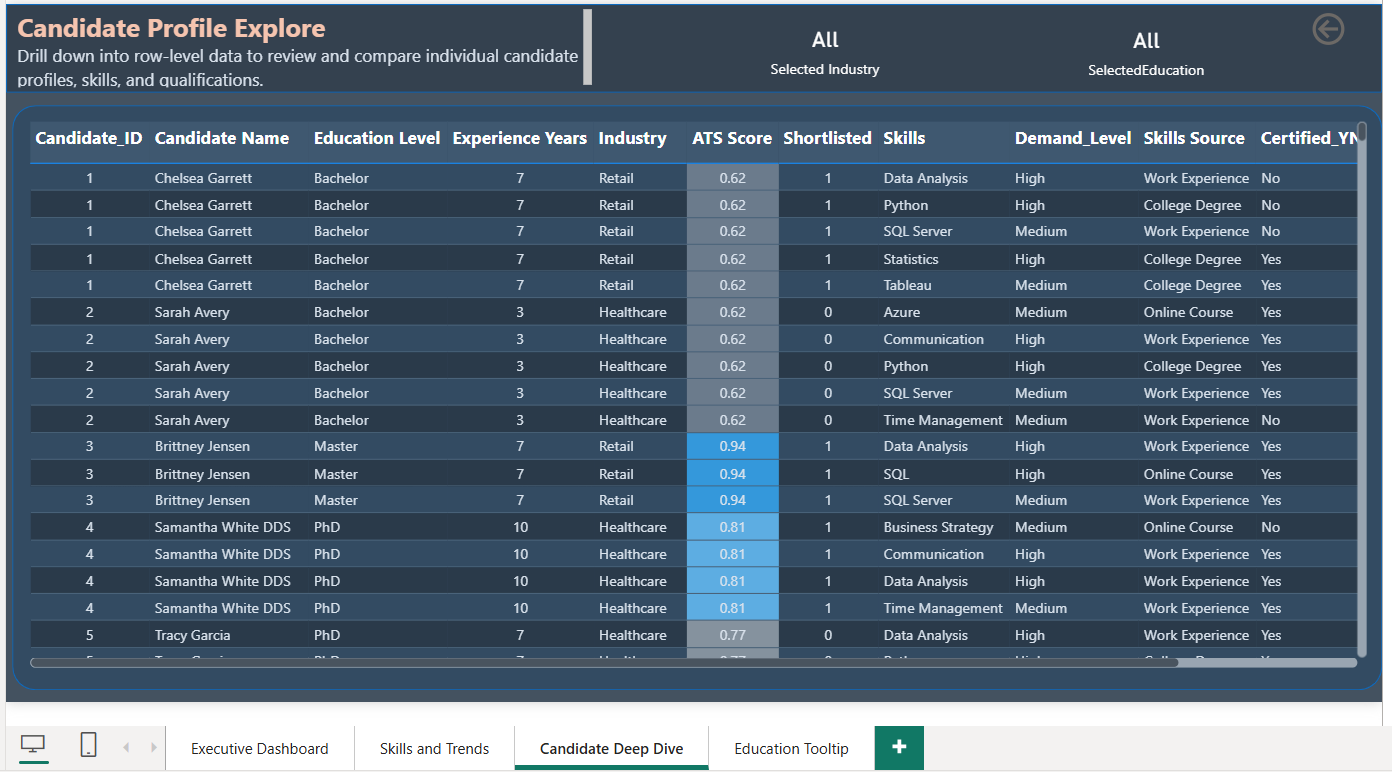

Layout of this report page (visuals, bound fields, positions):
{"tool":"powerbi","page":{"name":"Candidate Deep Dive","canvas":[1280,650],"ordinal":2},"visuals":[{"type":"shape","box":[5.8,94.2,1274.4,544.2],"z":0},{"type":"shape","box":[0,0,1280.2,82.6],"z":1000},{"type":"textbox","box":[5.8,0,544.2,82.6],"z":2000},{"type":"tableEx","fields":{"Values":["Candidate_Skills.Candidate_ID","Candidates.Candidate_Name","Candidates.Education_Level","Candidates.Experience_Years","Candidates.Industry","Candidates.ATS_Score","Candidates.Shortlisted","Skills.Skill_Name","Skills.Demand_Level","Skills.Skill_Source","Candidate_Skills.Certified_YN","Candidates.Location"]},"box":[16.3,104.7,1254.7,517.4],"z":4000},{"type":"actionButton","box":[1210.5,3.5,60.5,39.5],"z":5000},{"type":"card","title":"Candidate Details for Education Level: ","fields":{"Values":["Candidates.Selected Industry"]},"box":[612.8,9.3,298.8,64],"z":6000},{"type":"card","title":"Candidate Details for Education Level: ","fields":{"Values":["Candidates.SelectedEducation"]},"box":[911.6,10.5,298.8,64],"z":7000}]}

Visuals, with their boxes on the page's 1280x650 design canvas (x1, y1, x2, y2). These are canvas units, not pixel positions in the 1392x772 screenshot, which may show the page scaled, cropped or inside an application window:
shape: 6/94/1280/638
shape: 0/0/1280/83
textbox: 6/0/550/83
tableEx - Candidate_Skills.Candidate_ID x Candidates.Candidate_Name: 16/105/1271/622
actionButton: 1210/4/1271/43
"Candidate Details for Education Level: " card: 613/9/912/73
"Candidate Details for Education Level: " card: 912/10/1210/74
